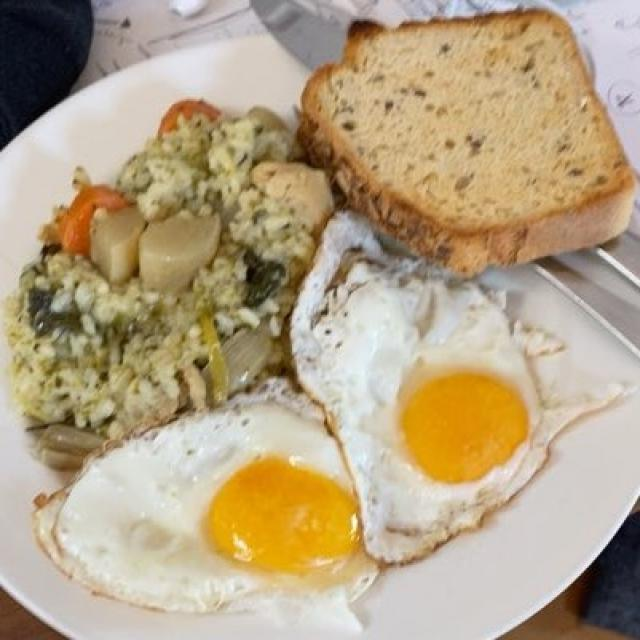bread: (309, 1, 629, 245)
egg: (34, 227, 627, 635)
mixed-vegetables: (24, 96, 331, 471)
